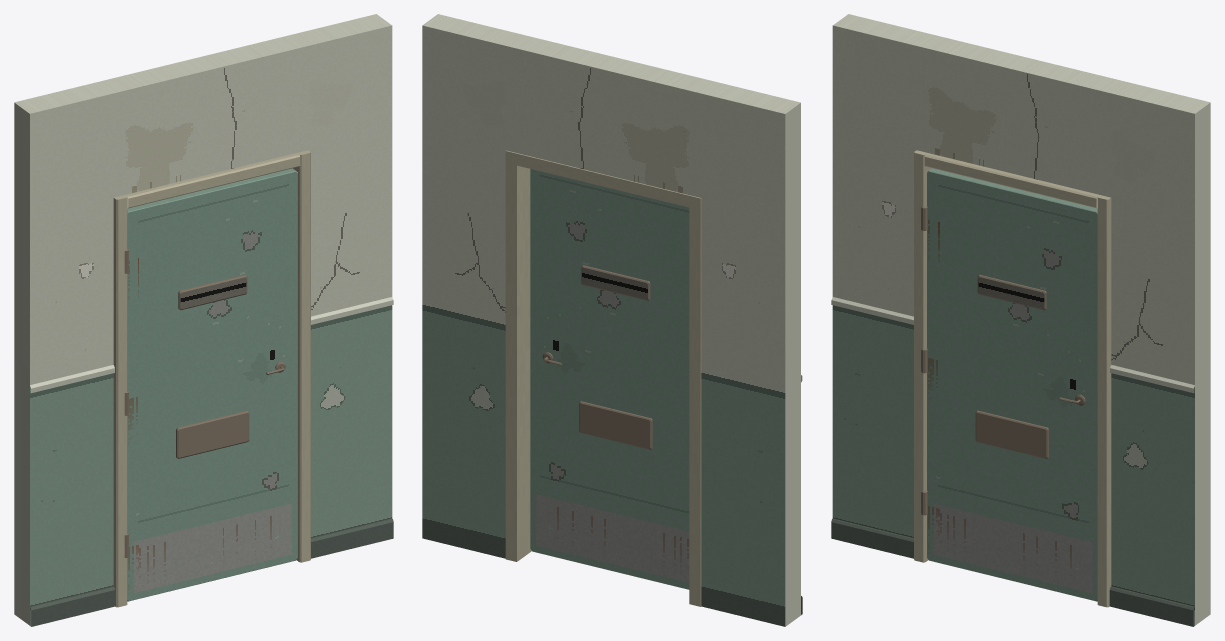
File: door_3c.glb
3 views of the same model, side by side, from view 1: azimuth 30°, elevation 25°; view 2: azimuth 150°, elevation 25°; view 3: azimuth 330°, elevation 25° (orthographic).
Visible parts, largest first — view 1: leaf_edge, wall_left, wall_right, wall_lintel, frame_left, frame_right, frame_top, food_hatch_front, observation_flap_front; view 2: leaf_edge, wall_left, wall_right, wall_lintel, frame_right, frame_left, food_hatch_back, frame_top, observation_flap_back; view 3: leaf_edge, wall_right, wall_left, wall_lintel, frame_right, frame_left, frame_top, food_hatch_front, observation_flap_front.
Part boxes in pixels (x1=…): leaf_edge: x1=127, y1=168, x2=297, y2=601; wall_left: x1=14, y1=81, x2=115, y2=626; wall_right: x1=291, y1=14, x2=393, y2=558; wall_lintel: x1=100, y1=35, x2=305, y2=196; frame_left: x1=113, y1=195, x2=127, y2=607; frame_right: x1=293, y1=150, x2=310, y2=562; frame_top: x1=125, y1=153, x2=300, y2=208; food_hatch_front: x1=176, y1=410, x2=249, y2=458; observation_flap_front: x1=178, y1=275, x2=247, y2=310; leaf_edge: x1=530, y1=169, x2=689, y2=589; wall_left: x1=699, y1=81, x2=802, y2=626; wall_right: x1=422, y1=14, x2=523, y2=558; wall_lintel: x1=508, y1=35, x2=714, y2=197; frame_right: x1=505, y1=150, x2=531, y2=561; frame_left: x1=689, y1=195, x2=701, y2=606; food_hatch_back: x1=579, y1=401, x2=652, y2=449; frame_top: x1=517, y1=153, x2=689, y2=207; observation_flap_back: x1=581, y1=265, x2=650, y2=300; leaf_edge: x1=927, y1=168, x2=1097, y2=601; wall_right: x1=1109, y1=81, x2=1210, y2=626; wall_left: x1=831, y1=14, x2=933, y2=558; wall_lintel: x1=919, y1=35, x2=1124, y2=196; frame_right: x1=1097, y1=195, x2=1111, y2=607; frame_left: x1=914, y1=150, x2=931, y2=562; frame_top: x1=924, y1=153, x2=1099, y2=208; food_hatch_front: x1=975, y1=410, x2=1048, y2=458; observation_flap_front: x1=977, y1=275, x2=1046, y2=310.
Size of the model in its own units: 2 by 2.7 by 0.2094.
1 material, 1 textured.
